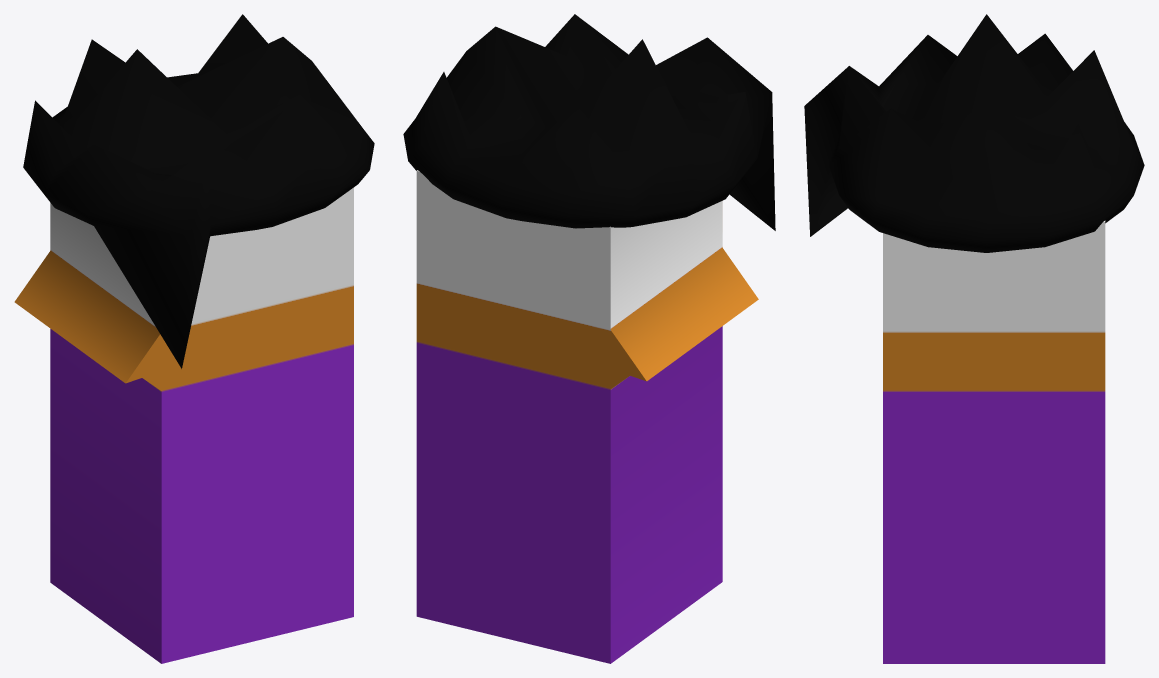
File: scary florian.fbx
The picture shows the model from 3 angles, left to right: view 1: azimuth 30°, elevation 25°; view 2: azimuth 150°, elevation 25°; view 3: azimuth 270°, elevation 25°; orthographic projection.
Parts seen in each view (by area): view 1: polySurface18; view 2: polySurface18; view 3: polySurface18.
Boxes of the visible parts, bbox=[...] form: polySurface18: bbox=[14, 14, 374, 663]; polySurface18: bbox=[403, 14, 775, 663]; polySurface18: bbox=[804, 14, 1144, 663].
Size of the model in its own units: 4.37 by 7.7 by 4.17.
